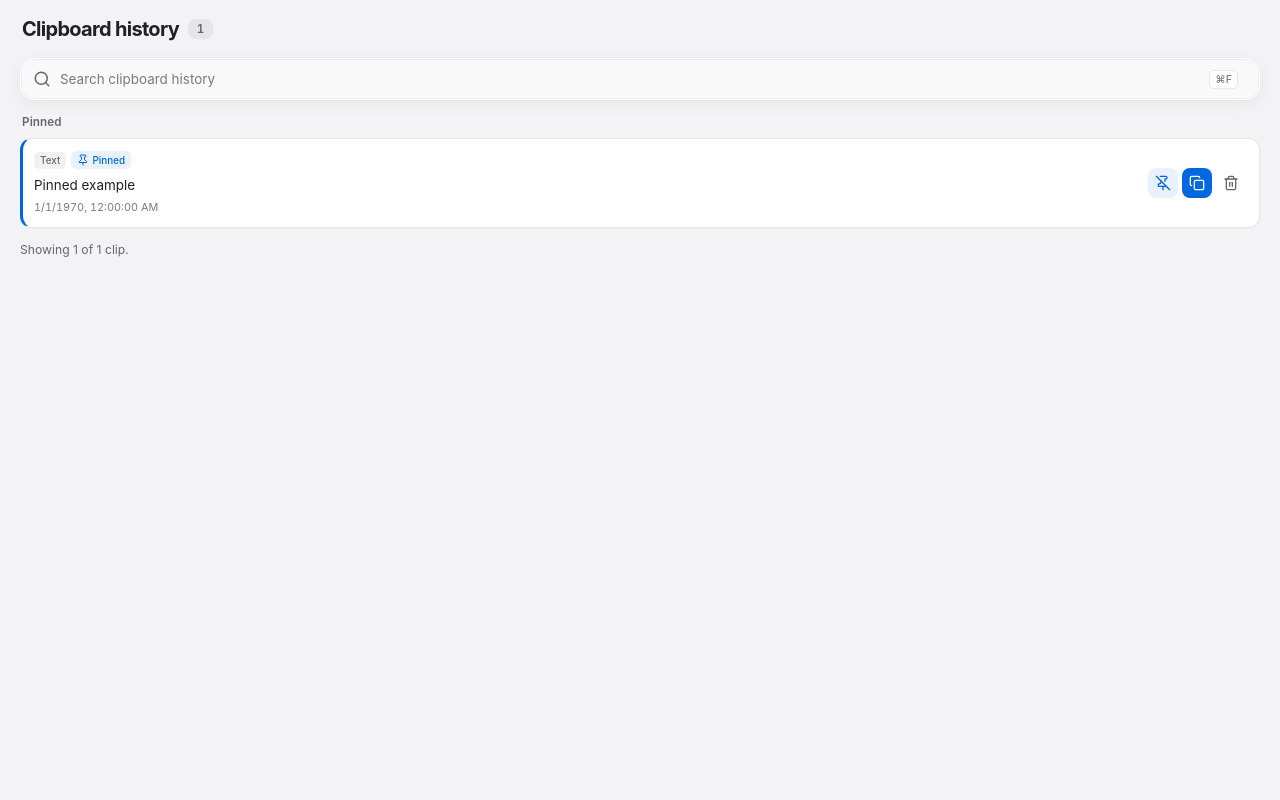
Test: HistoryView deletion › shows a failed delete, and requires confirmation again before retrying
The width and height of the screenshot is (1280, 800).
Click the button named "Delete item": (1231,183) [1216, 168, 1246, 198]
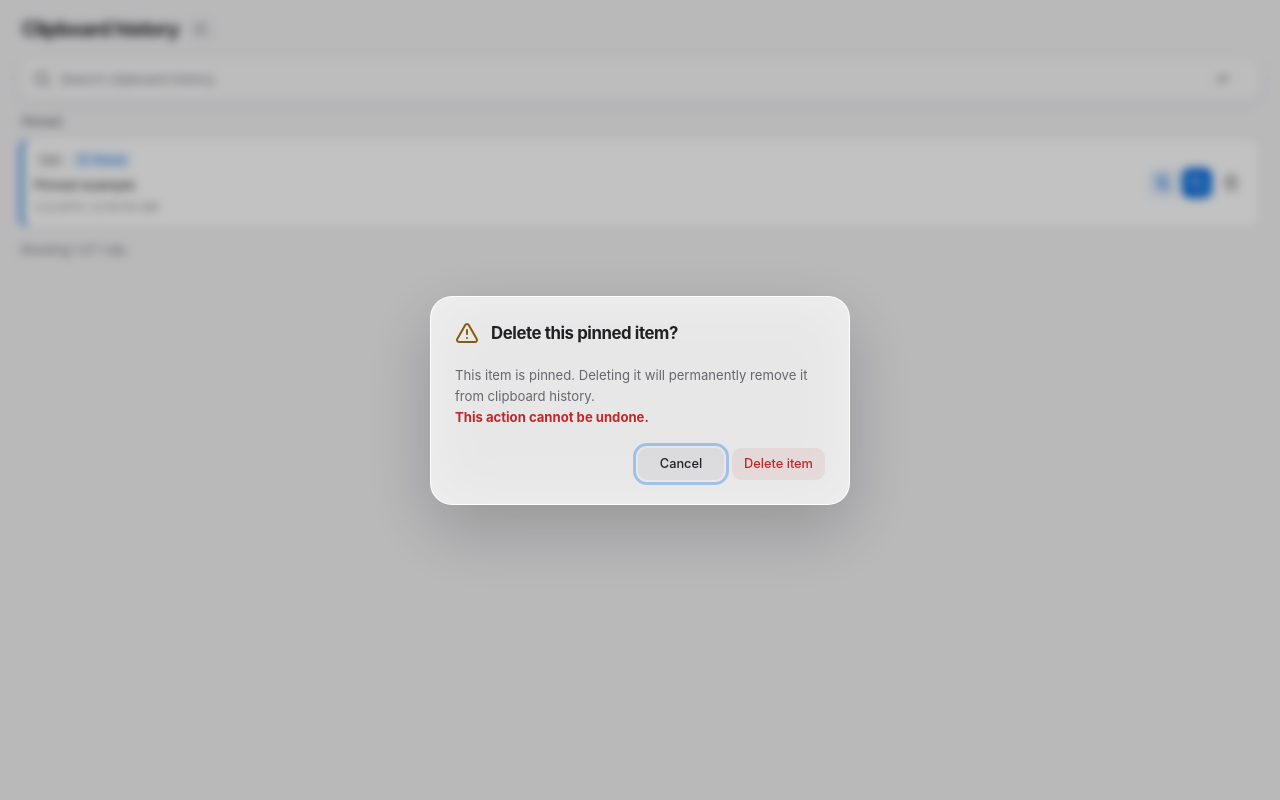
Click the button "Delete item": (778,464) [732, 448, 825, 480]
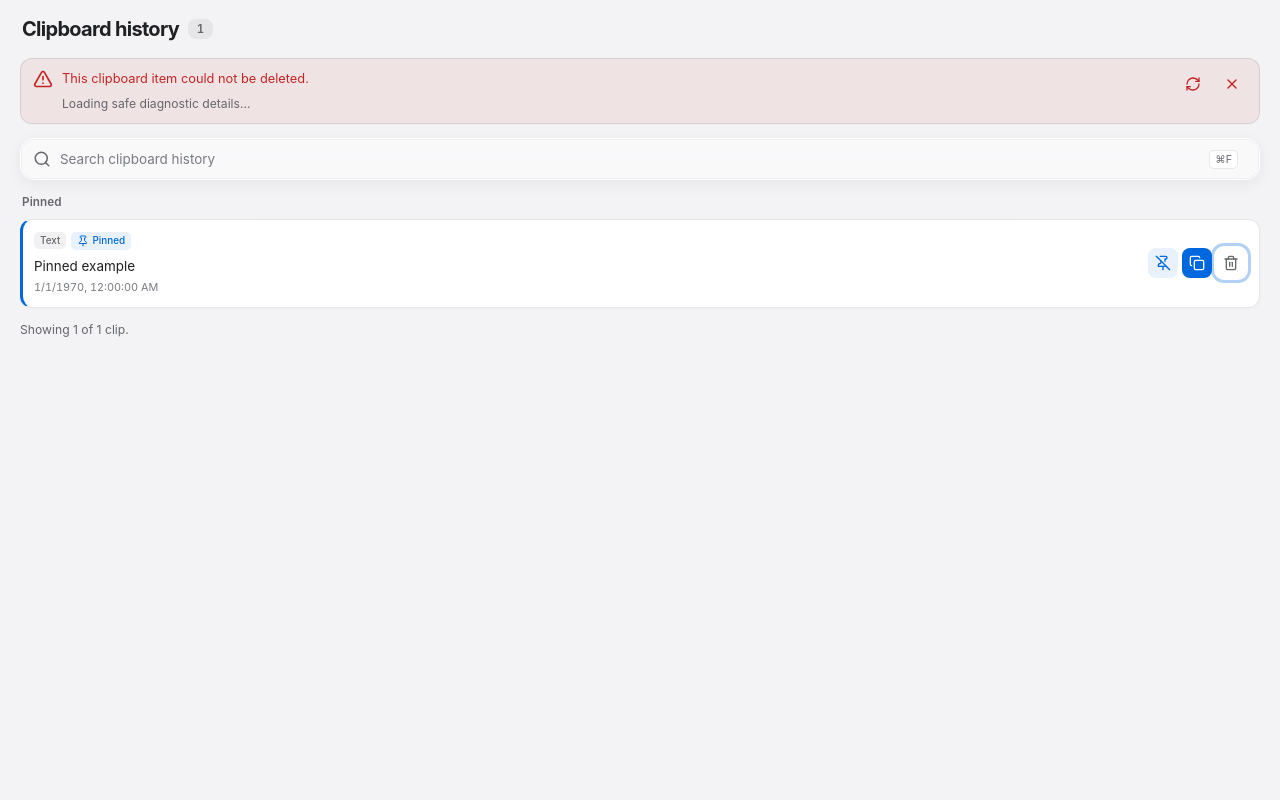
Expected: the text "This clipboard item could not be deleted." is shown, [62, 71, 309, 86]
Click the button named "Retry": (1193,84) [1178, 69, 1208, 99]
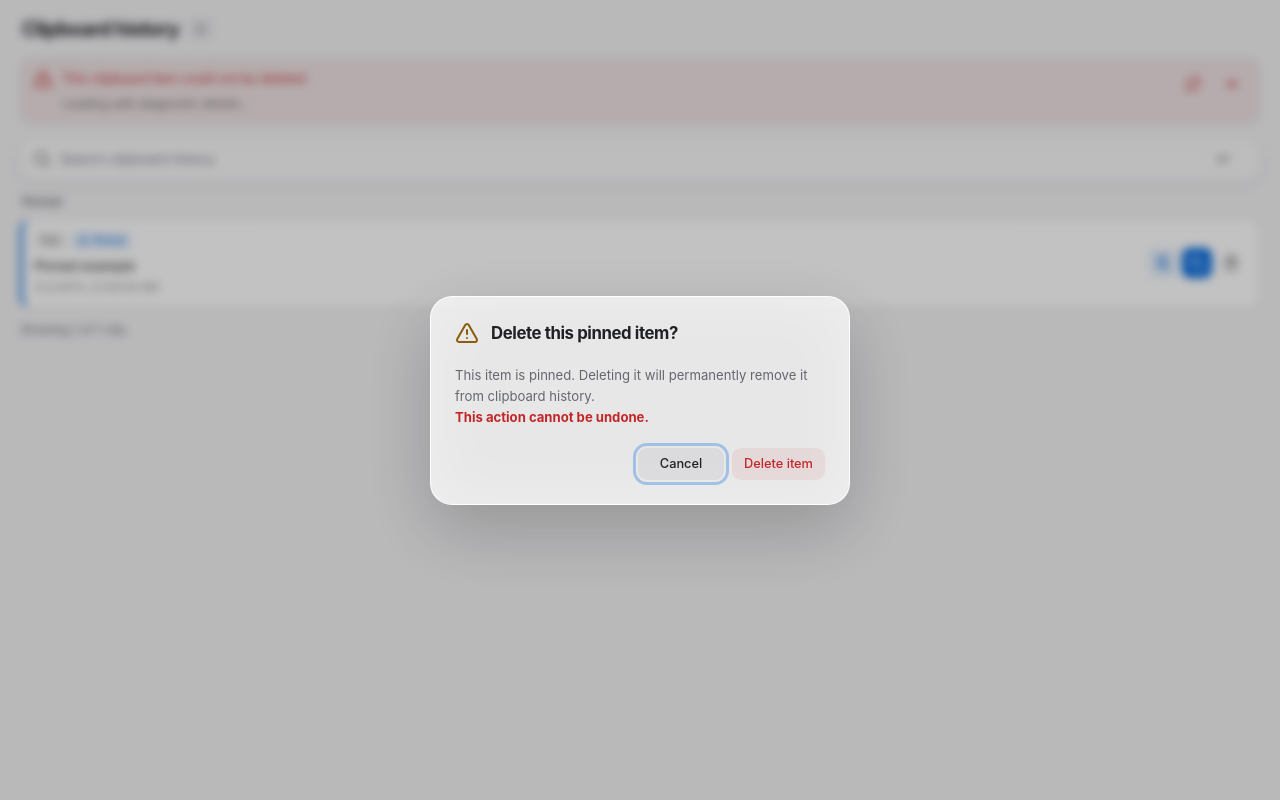
Click the button "Cancel": (681,464) [638, 448, 724, 480]
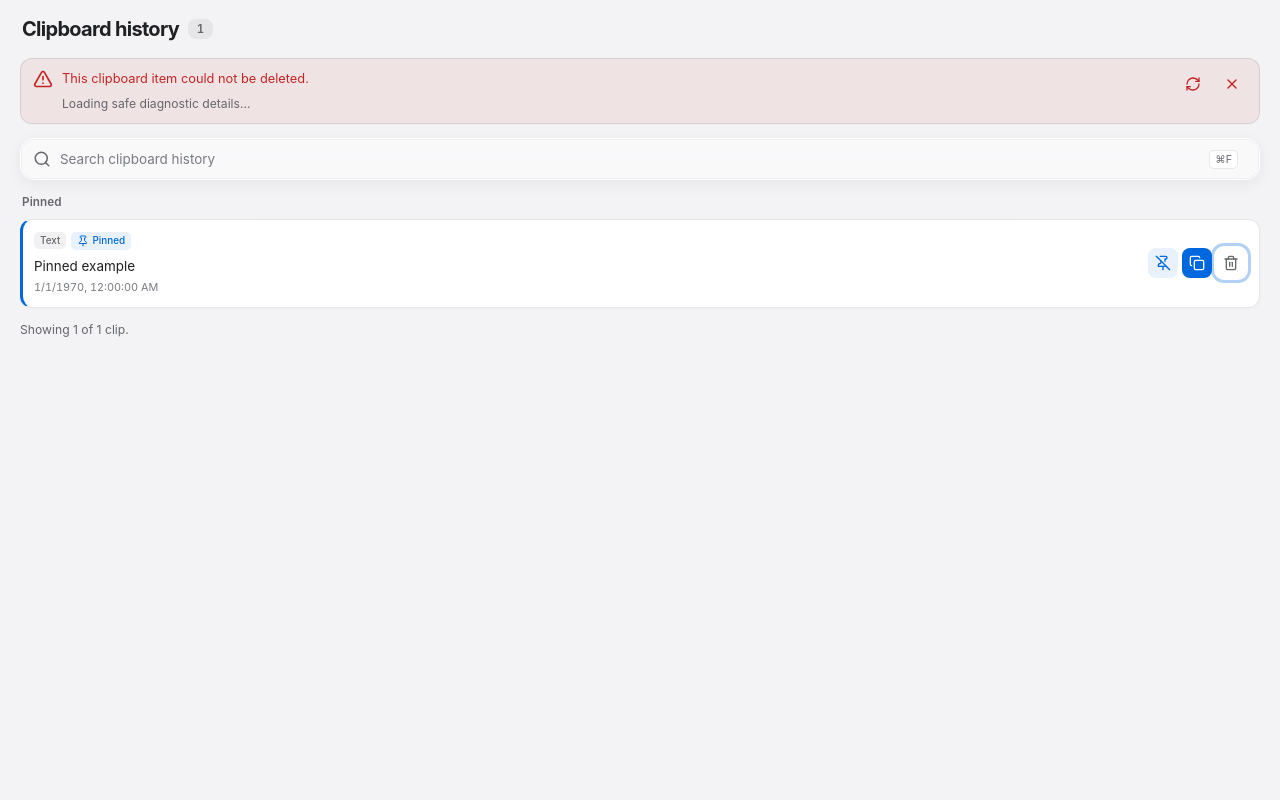
Click the button named "Retry": (1193,84) [1178, 69, 1208, 99]
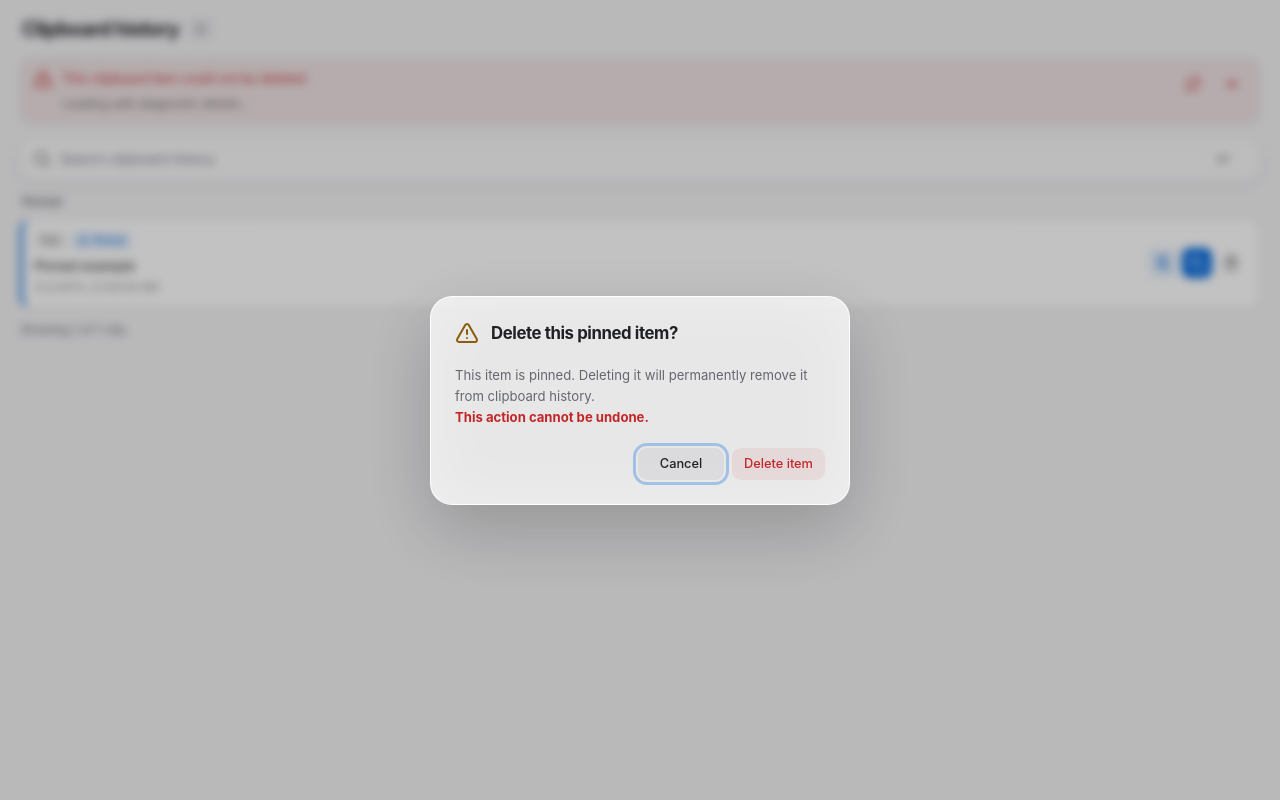
Click the button "Delete item": (778,464) [732, 448, 825, 480]
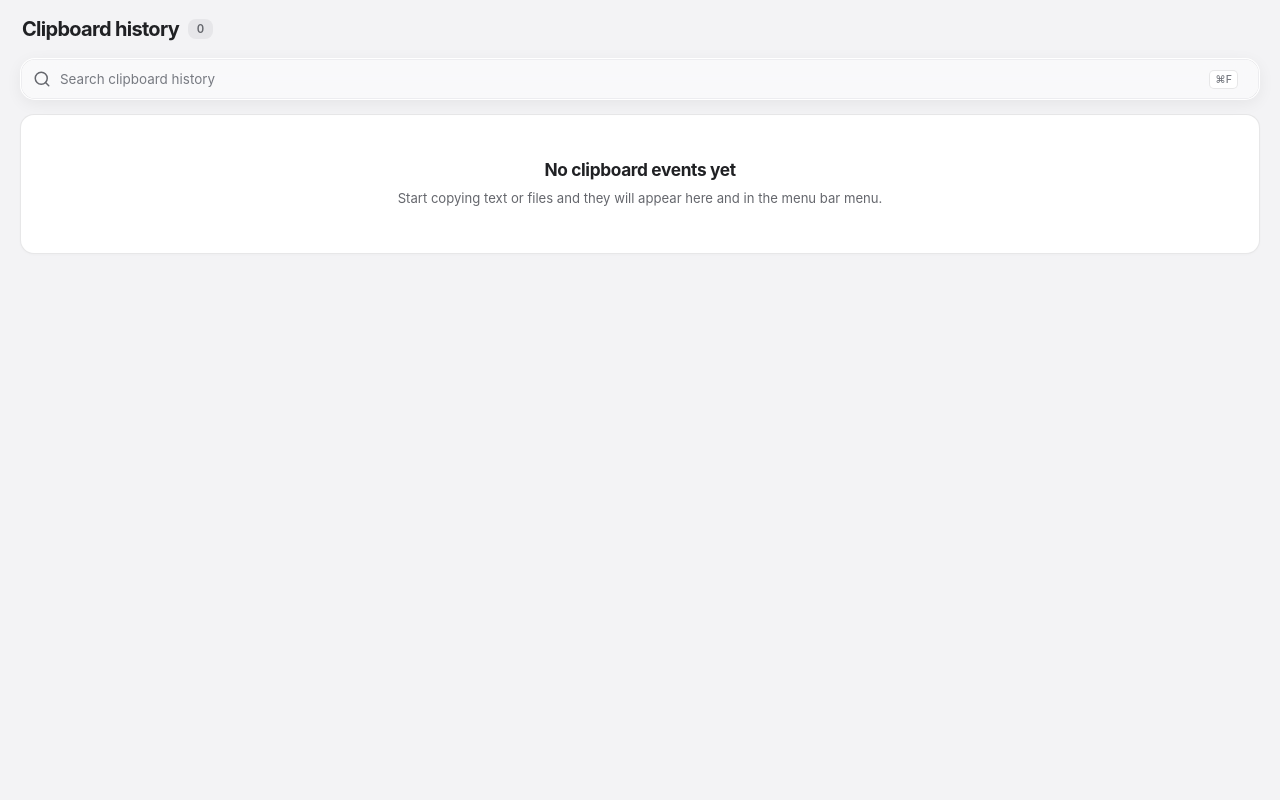
Expected: the message with class "error-banner" is gone
